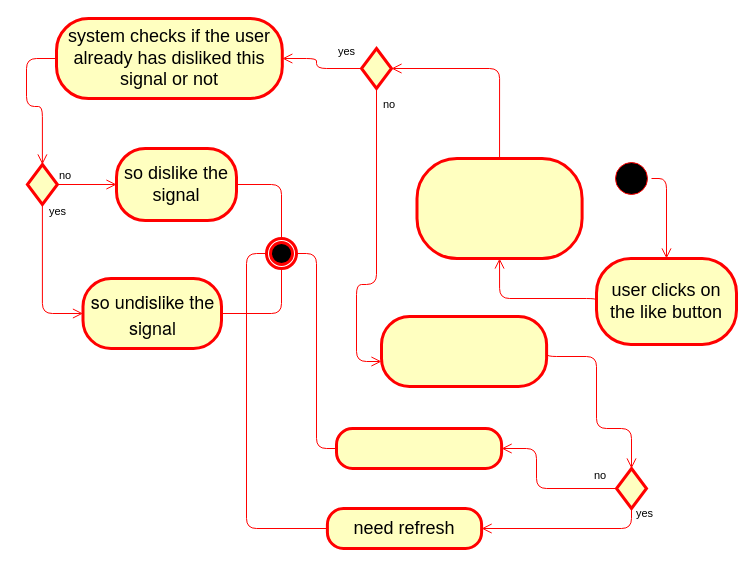
This 755x567 diagram has some shape labels left out. Here are the shapes that lost their labels. From the top down, the box of each, then its label:
(415, 156, 583, 260): checks if the credentials of user exists or are valid
(380, 314, 548, 388): check if the access token is expired
(334, 426, 503, 470): error message
